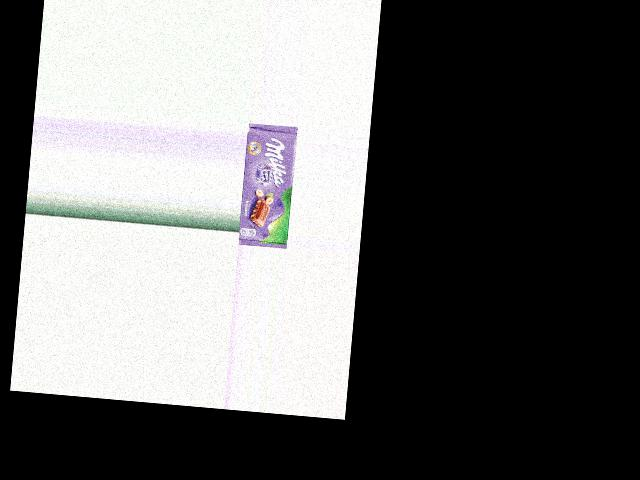chocolate: (237, 123, 297, 249)
